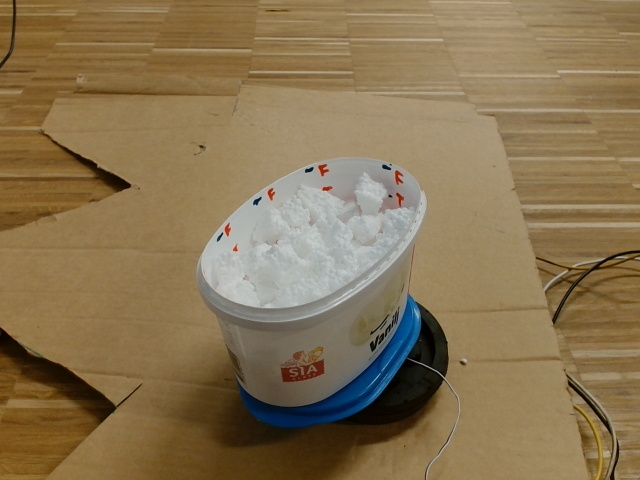Big_threequarter: (192, 152, 433, 324)
